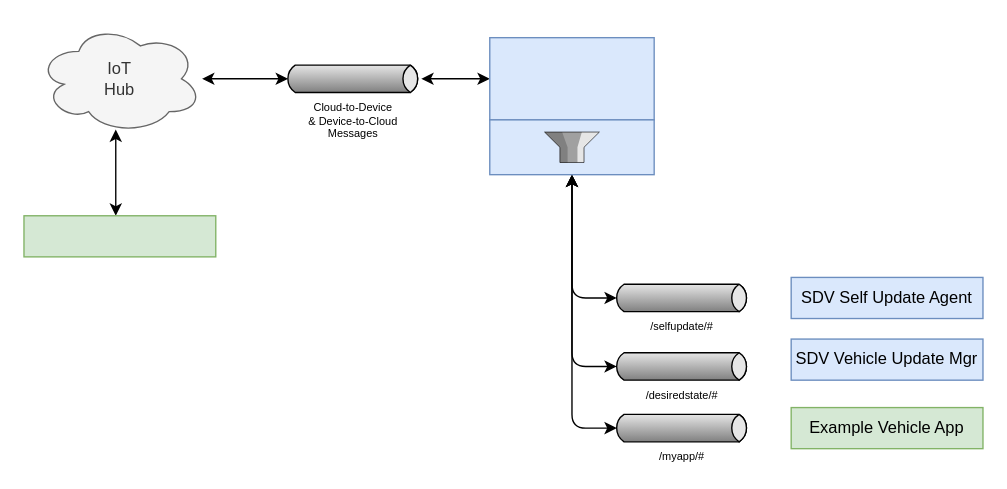
Image size: 1007x489. Some labels were removed from this diagram. Each missing label, with the box of its shape:
Custom Backend Service: (23, 214, 216, 257)
SDV Cloud Connector: (488, 36, 654, 120)
